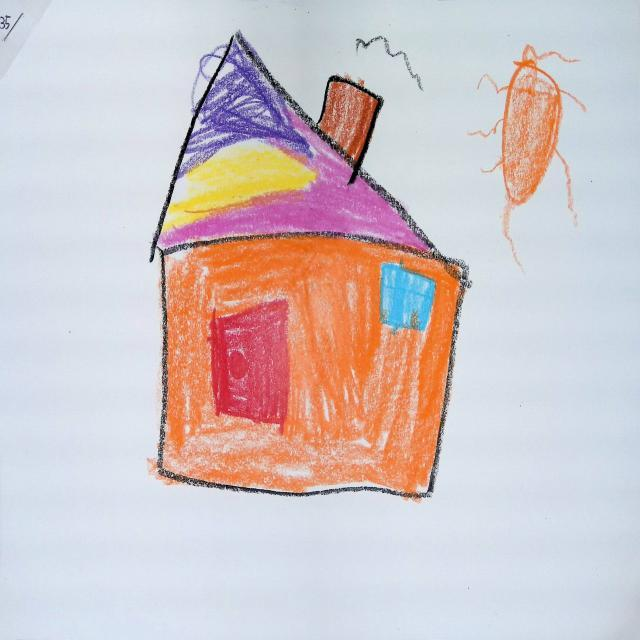chimney: (317, 75, 384, 168)
door: (209, 296, 289, 424)
house: (153, 33, 468, 498)
roof: (156, 31, 454, 268)
wall: (159, 234, 467, 495)
window: (379, 261, 438, 331)
